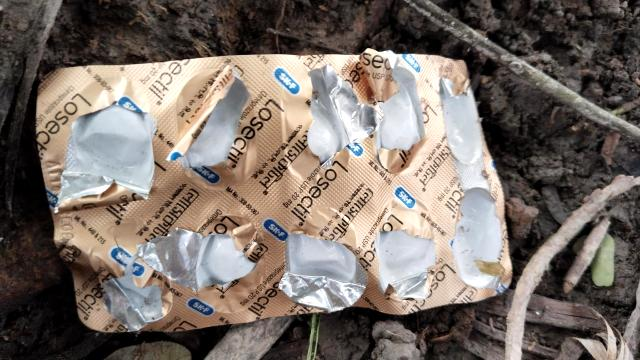medicine: (29, 62, 515, 305)
